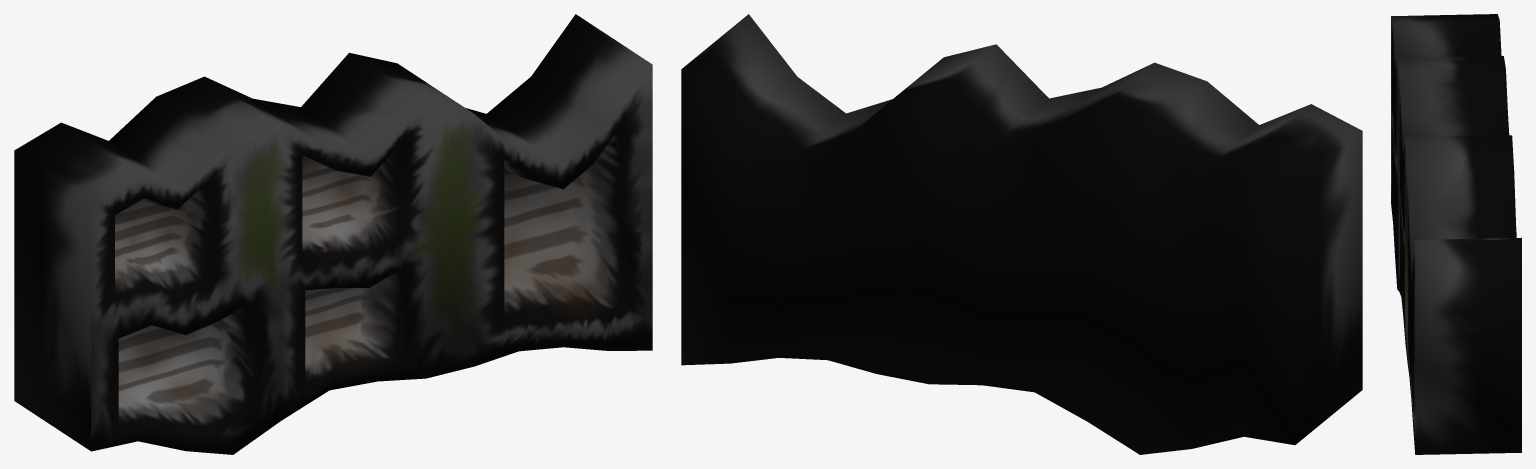
The model's file is shelf.fbx.
3 renders of one model, left to right at view 1: azimuth 30°, elevation 25°; view 2: azimuth 150°, elevation 25°; view 3: azimuth 270°, elevation 25°, orthographic. The views are drawn at different scales.
Visible parts, largest first — view 1: shelf; view 2: shelf; view 3: shelf.
Part boxes in pixels (bbox=[...]): shelf: bbox=[14, 14, 652, 454]; shelf: bbox=[681, 14, 1362, 454]; shelf: bbox=[1391, 14, 1521, 454].
Size of the model in its own units: 1607 by 855 by 415.
1 material, 1 textured.
